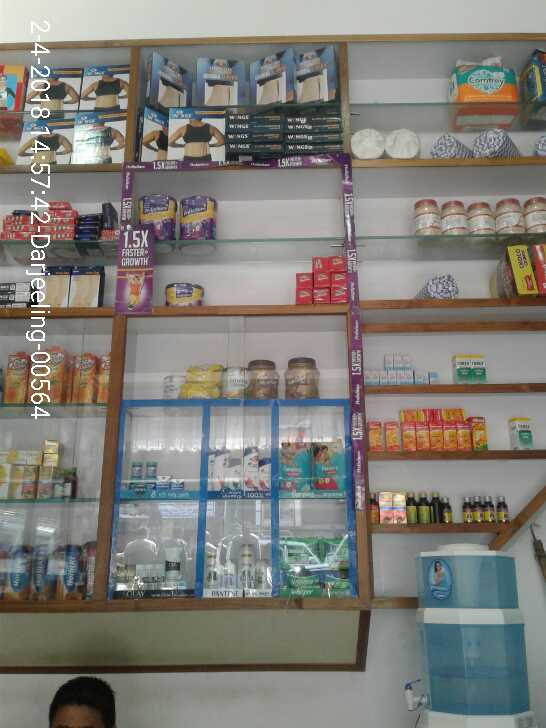vicks: (126, 459, 184, 488)
